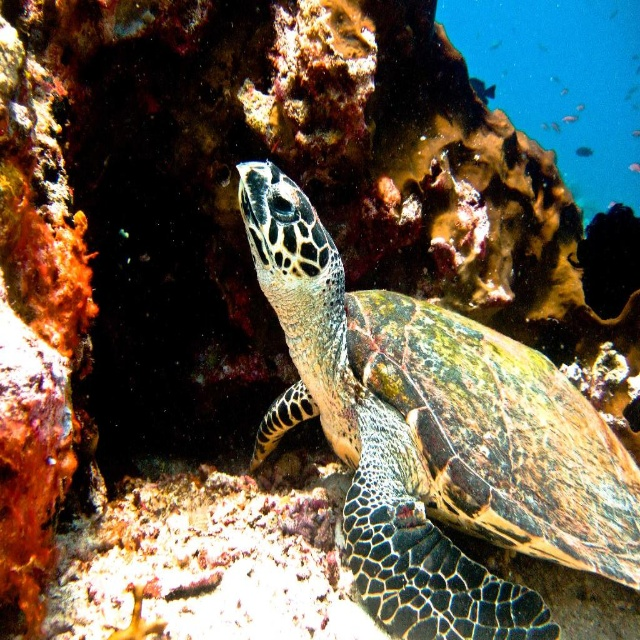Sea turtle: (236, 163, 640, 639)
